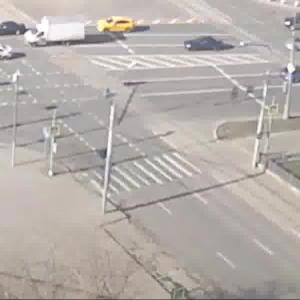car: (24, 21, 86, 52), (192, 38, 235, 58), (94, 18, 136, 35), (276, 18, 300, 44), (1, 19, 25, 40), (284, 65, 300, 87)
